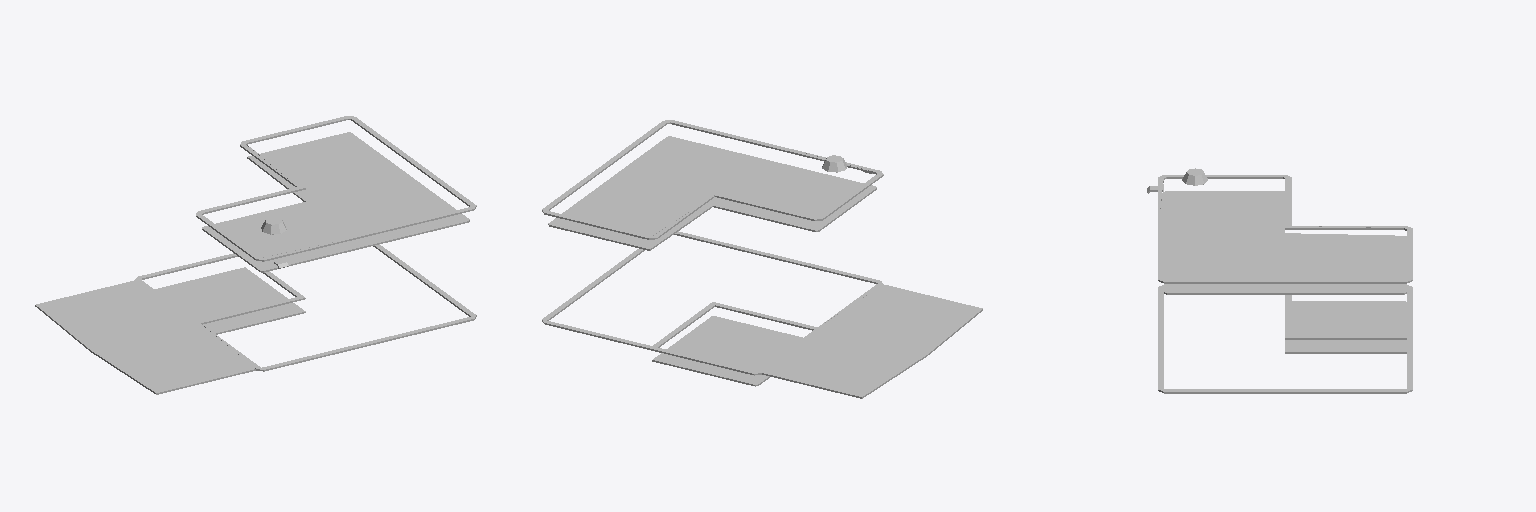
File: building-type-q_roof.obj
The picture shows the model from 3 angles: view 1: azimuth 30°, elevation 25°; view 2: azimuth 150°, elevation 25°; view 3: azimuth 270°, elevation 25°; orthographic projection.
Parts seen in each view (by area): view 1: building-type-q.001; view 2: building-type-q.001; view 3: building-type-q.001.
Boxes of the visible parts, x1,y1,x2,y2 form: building-type-q.001: [35, 116, 476, 394]; building-type-q.001: [542, 120, 982, 398]; building-type-q.001: [1147, 168, 1412, 393].
Size of the model in its own units: 1.24 by 0.524 by 0.876.